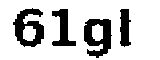1: (49, 5, 80, 51)
6: (6, 5, 46, 52)
g: (83, 16, 115, 60)
l: (117, 4, 139, 53)
